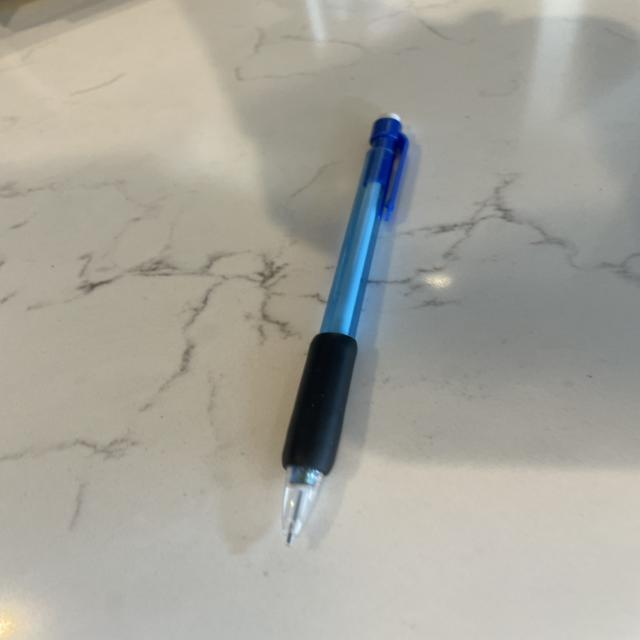mechanical-pencils: (285, 112, 413, 551)
